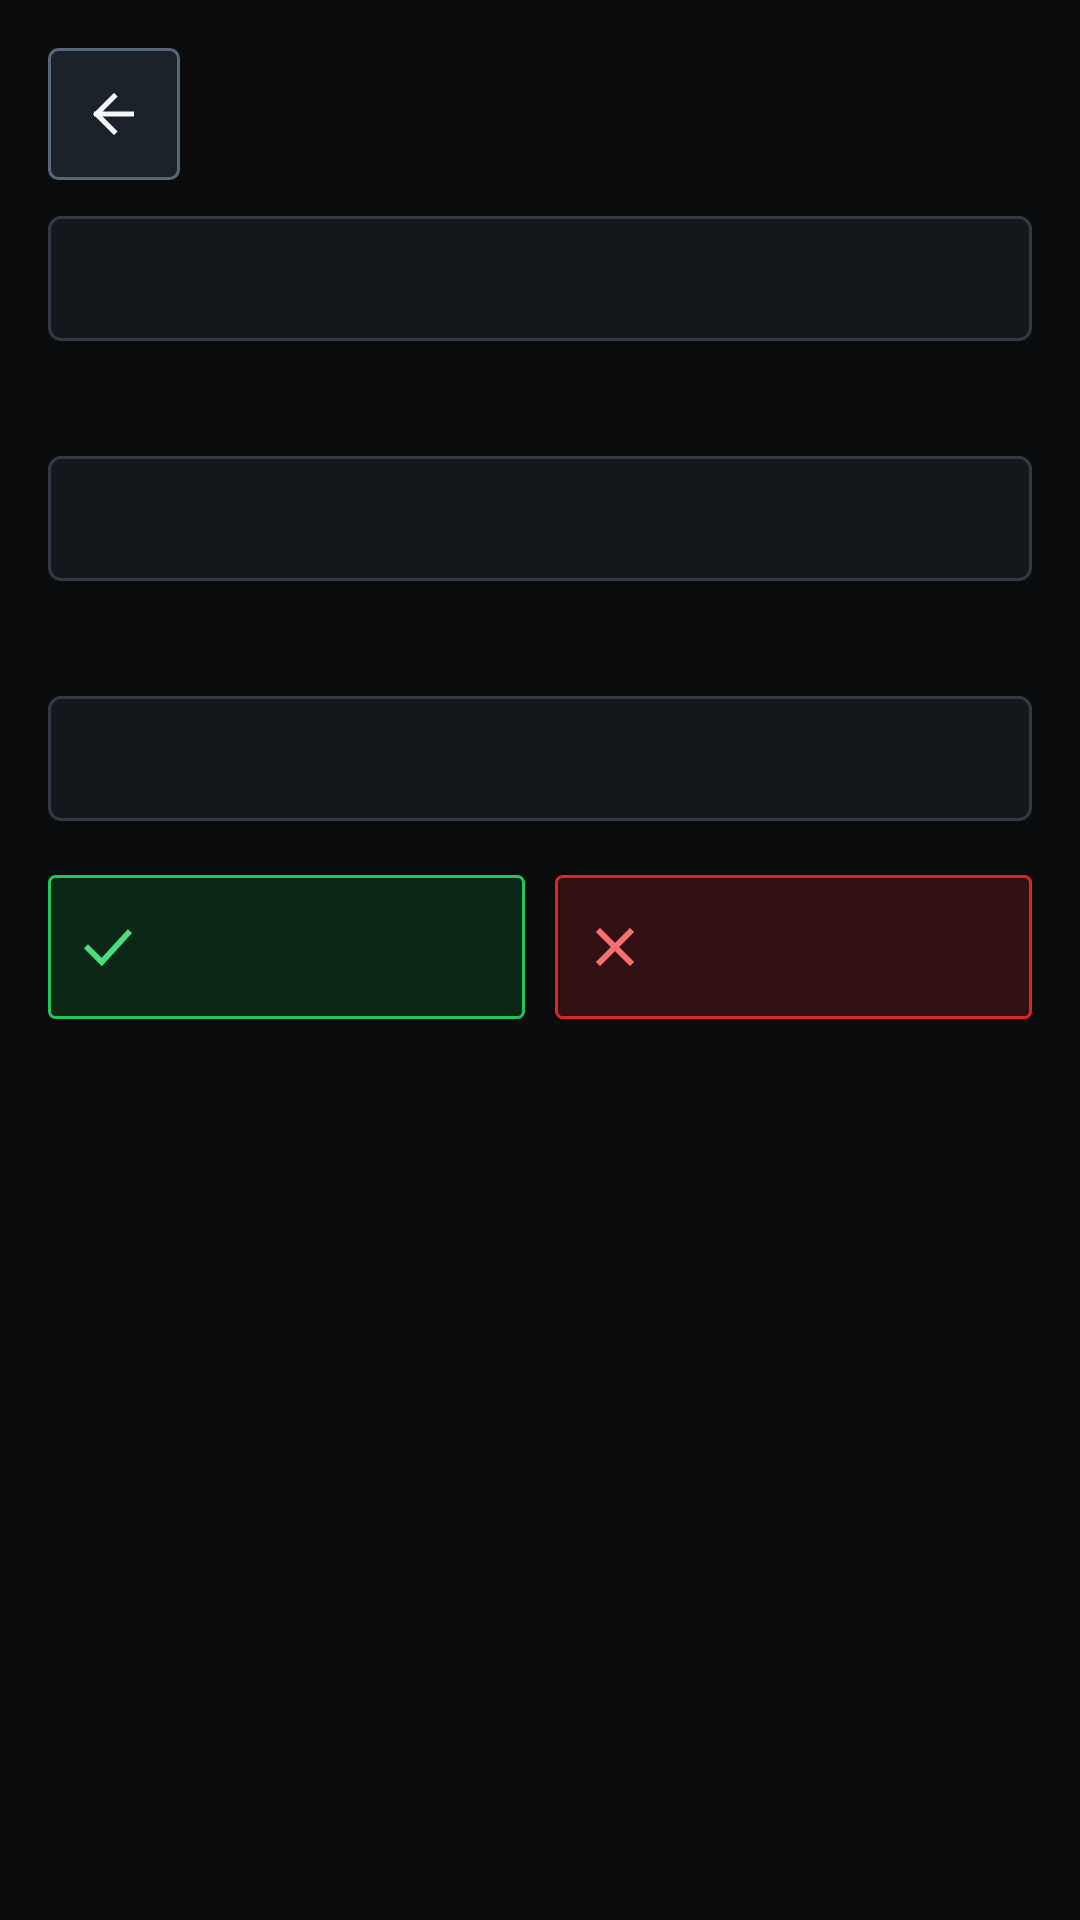

Icons on this 1080×1920 Android screen, each with the point to tap as point (x, y):
Back: point (114, 114)
